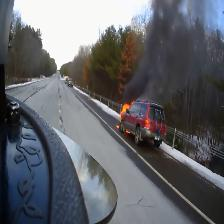fire: (118, 94, 139, 140)
smoke: (124, 0, 223, 101)
